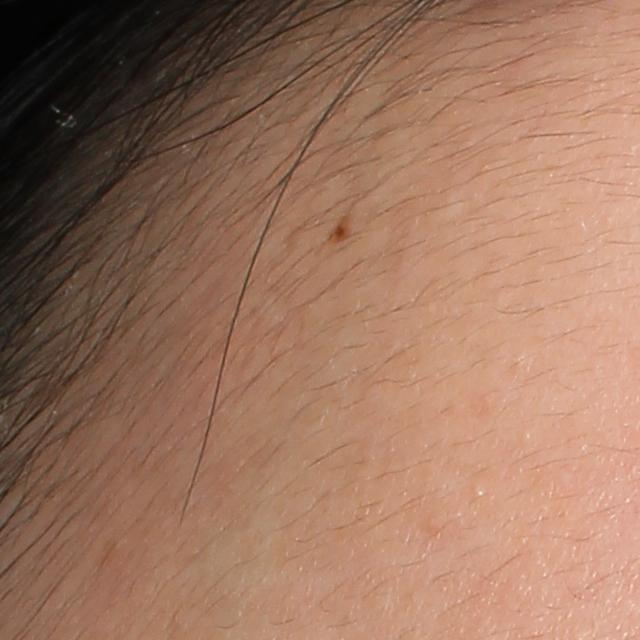comedo: (470, 482, 486, 500)
nevus: (328, 212, 353, 243)
